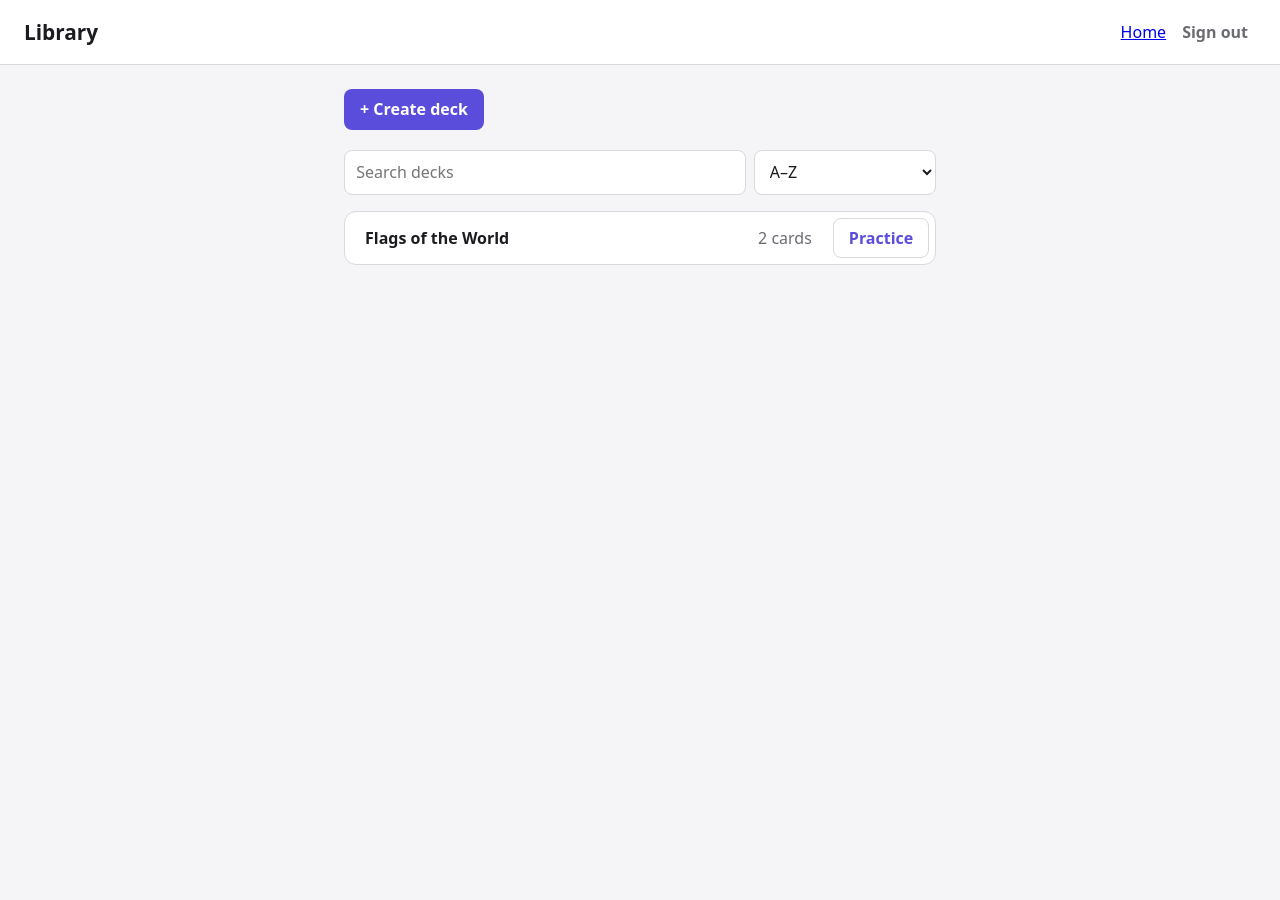
LibraryPage › deck actions sheet › omits Edit for a deck the user cannot edit
This screenshot has width=1280, height=900.
Click the button "Flags of the World 2 cards" at (437,238), box [351, 218, 825, 258]
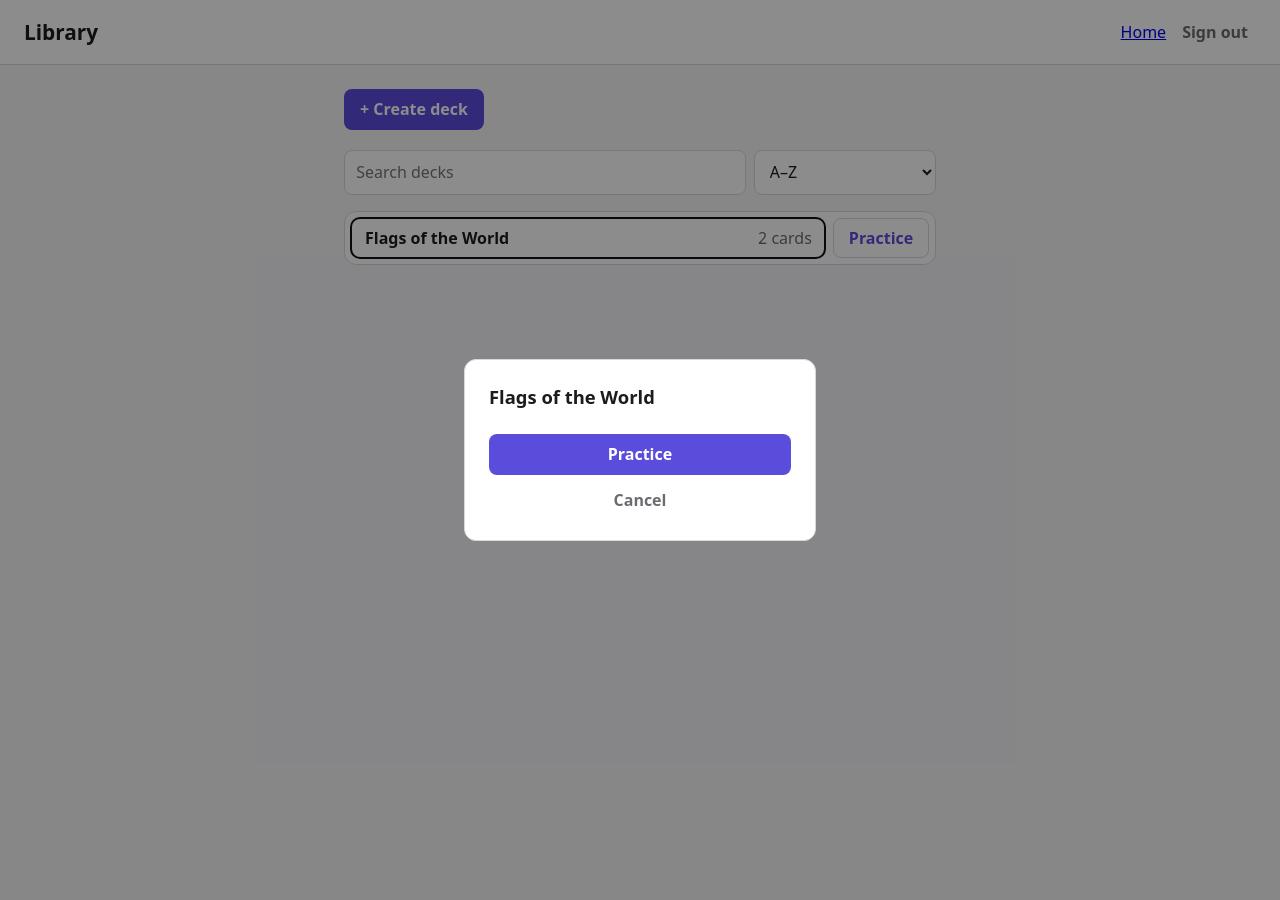
Check: the dialog is shown
